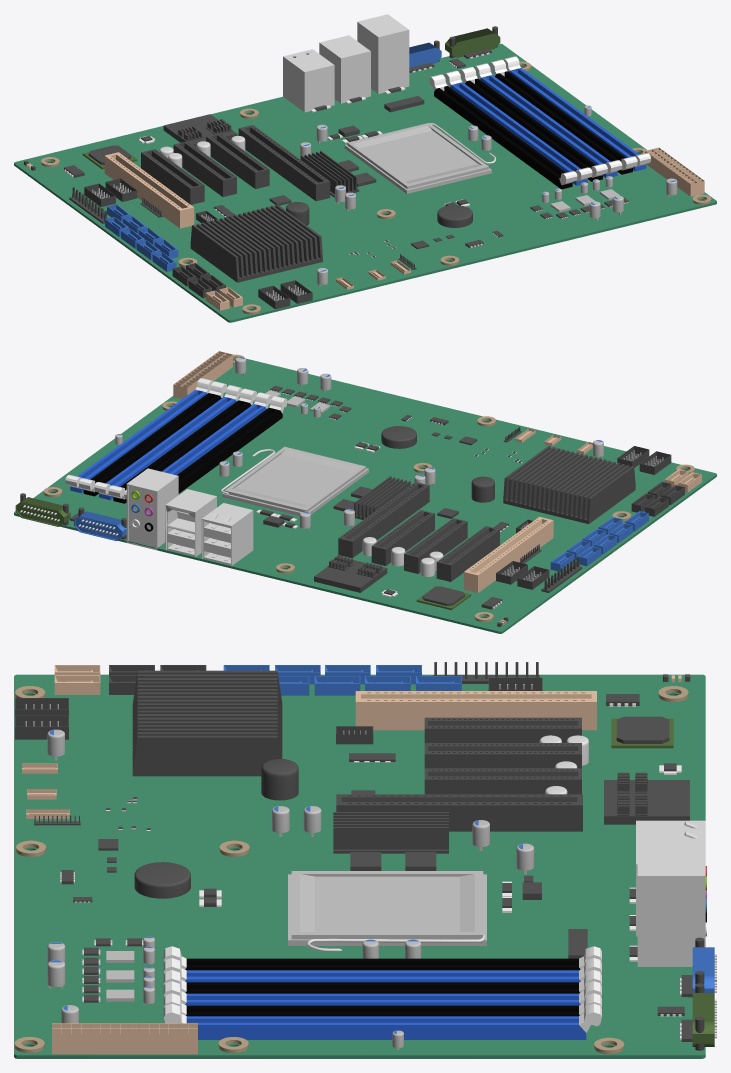
The model's file is motherboard.glb.
The picture shows the model from 3 angles, top to bottom: view 1: azimuth 30°, elevation 25°; view 2: azimuth 150°, elevation 25°; view 3: azimuth 270°, elevation 25°; orthographic projection. The views are drawn at different scales.
Parts seen in each view (by area): view 1: c0f4d2a, c161616, ccccccc, c000000, c959595, c0828cd, cdb9465, c969696, cffffff, c0f37b9, c846541, c182d0d; view 2: c0f4d2a, c161616, ccccccc, c959595, c000000, c0828cd, cdb9465, c0f37b9, c969696, cffffff, c182d0d, c846541; view 3: c0f4d2a, c161616, c0828cd, cdb9465, c000000, c959595, ccccccc, c969696, c0f37b9, cffffff, c846541, c182d0d.
Part boxes in pixels (x1,y1,x2,y2): c0f4d2a: (14,43,716,322); c161616: (24,26,628,309); ccccccc: (159,14,496,168); c000000: (434,71,632,189); c959595: (344,123,491,193); c0828cd: (450,68,646,185); cdb9465: (26,147,704,310); c969696: (92,105,677,300); cffffff: (64,52,650,257); c0f37b9: (105,42,675,271); c846541: (41,61,711,314); c182d0d: (82,28,500,169); c0f4d2a: (14,358,716,633); c161616: (20,385,684,626); ccccccc: (20,449,443,576); c959595: (222,446,368,515); c000000: (83,393,282,531); c0828cd: (70,389,266,499); cdb9465: (173,351,701,624); c0f37b9: (74,357,648,571); c969696: (115,357,663,581); cffffff: (65,378,522,608); c182d0d: (15,497,471,610); c846541: (43,354,694,621); c0f4d2a: (14,674,705,1058); c161616: (15,662,704,1050); c0828cd: (185,970,586,1039); cdb9465: (22,665,681,1054); c000000: (185,912,706,1016); c959595: (288,871,486,945); ccccccc: (306,735,716,1038); c969696: (25,684,534,1049); c0f37b9: (49,665,714,1034); cffffff: (60,703,706,1039); c846541: (14,686,688,1053); c182d0d: (611,718,714,1046).
Size of the model in its own units: 421 by 48.95 by 328.
